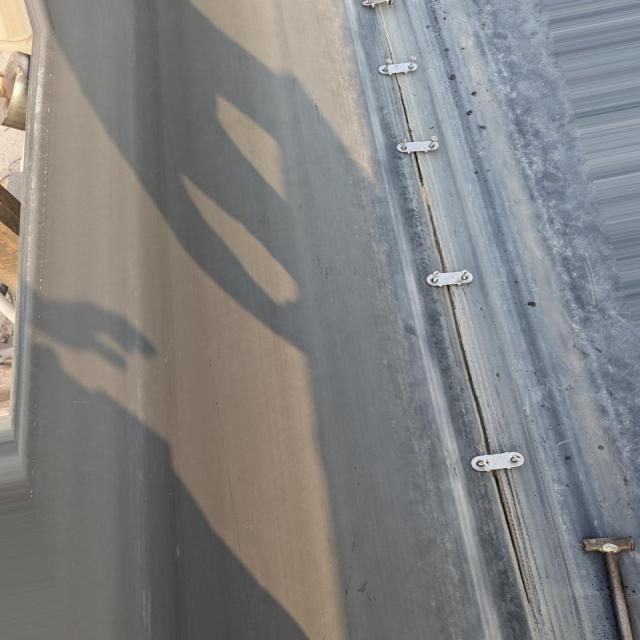Other Objects: (584, 531, 638, 640)
Roller: (0, 54, 30, 132)
patch work: (359, 0, 546, 610)
